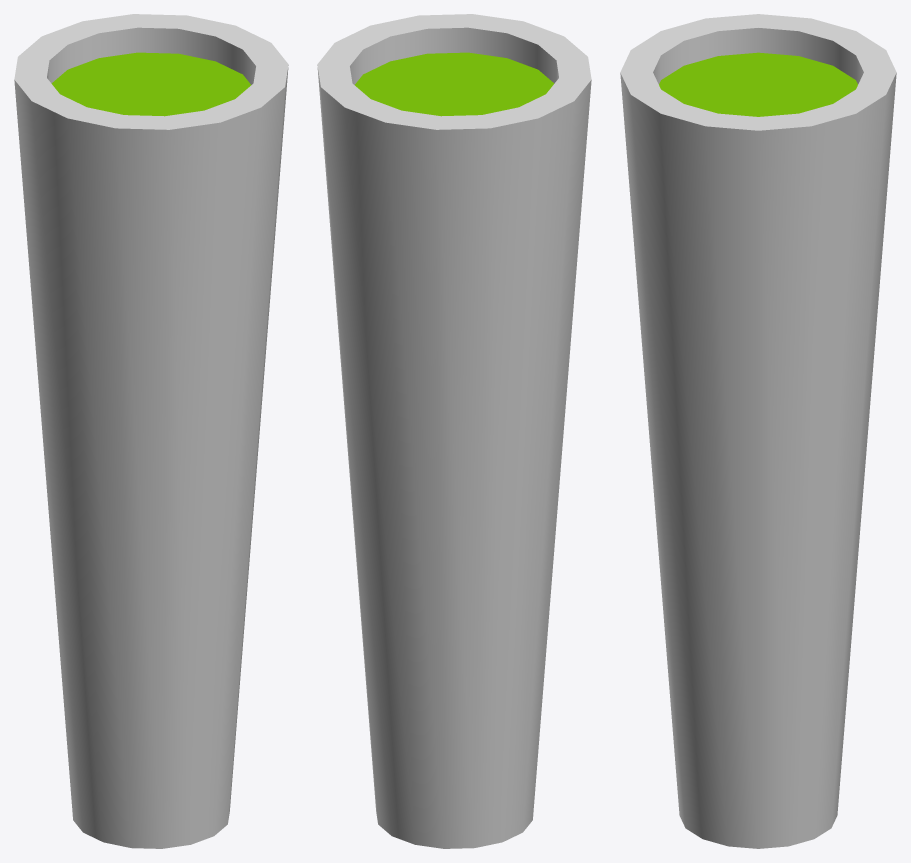
The model's file is Nature_Deco_2.obj.
3 views of the same model, side by side, from view 1: azimuth 30°, elevation 25°; view 2: azimuth 150°, elevation 25°; view 3: azimuth 270°, elevation 25° (orthographic).
Visible parts, largest first — view 1: Nature_Deco_2; view 2: Nature_Deco_2; view 3: Nature_Deco_2.
Boxes of the visible parts, x1,y1,x2,y2 form: Nature_Deco_2: (14, 14, 288, 848); Nature_Deco_2: (317, 14, 591, 848); Nature_Deco_2: (620, 14, 896, 848).
Bounding box in the file's own units: 0.31 × 0.9197 × 0.31.
